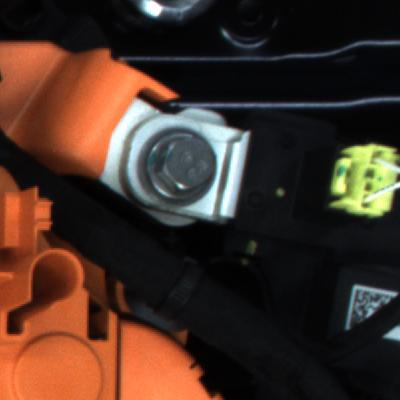nut_b: (144, 121, 219, 211)
